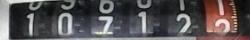digits: (57, 12, 74, 34), (176, 12, 191, 32), (97, 15, 113, 33), (214, 18, 230, 33), (137, 11, 147, 32), (26, 12, 34, 34)
